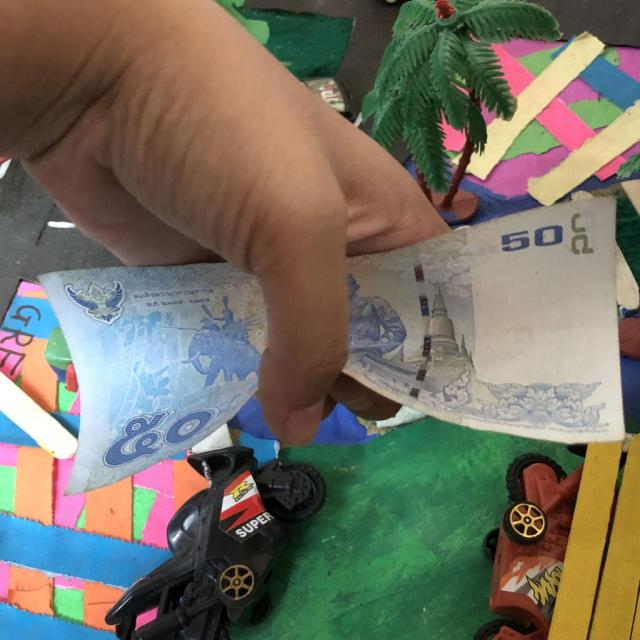THAI50: (343, 196, 627, 448), (38, 262, 268, 498)
